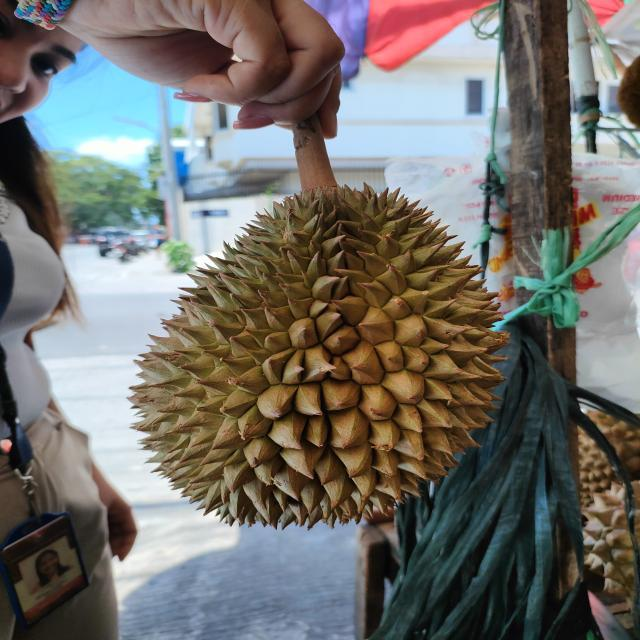mature: (128, 179, 512, 532)
